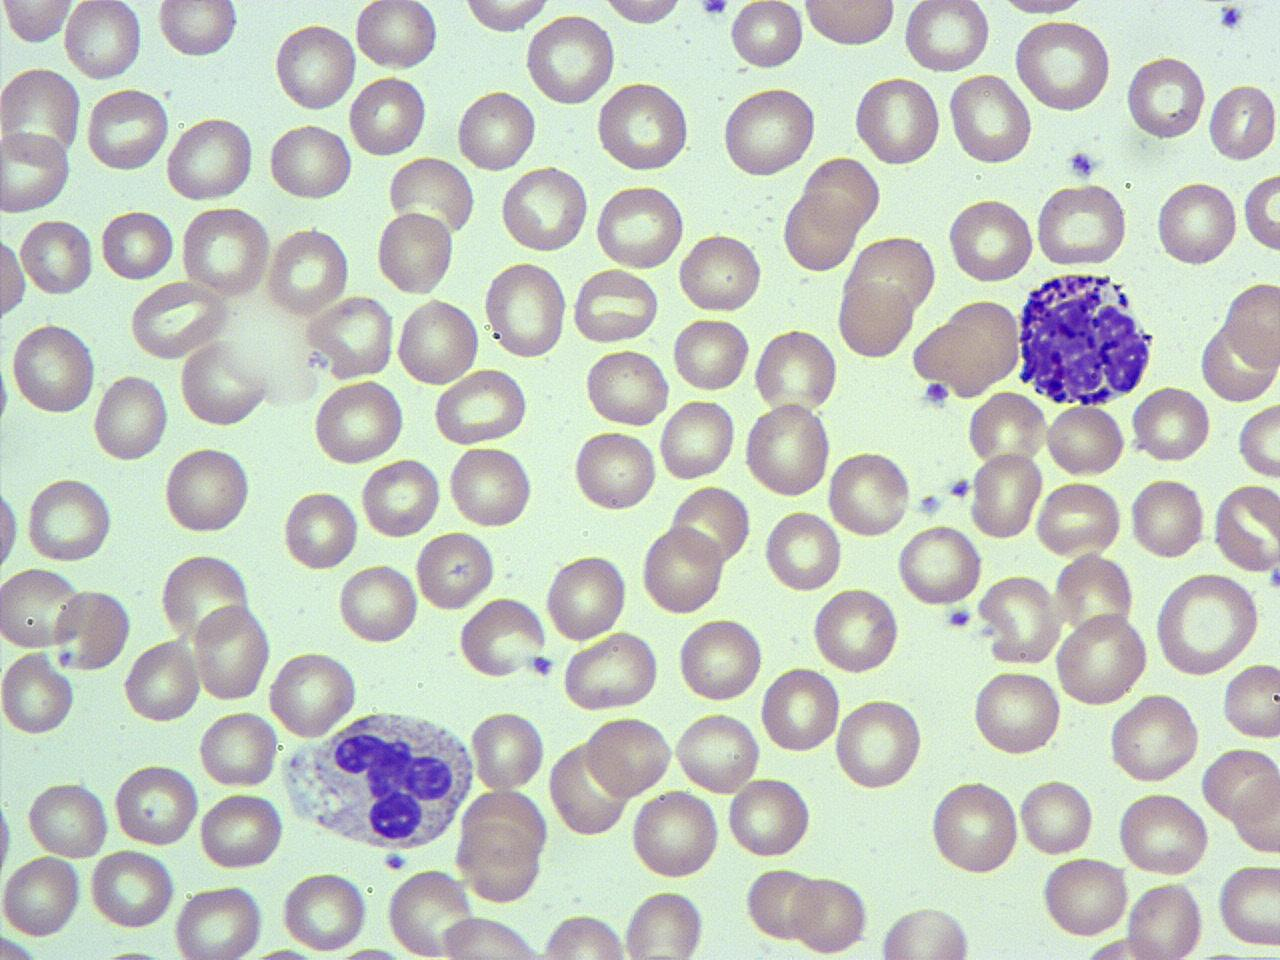Platelets: (966, 458, 1044, 541), (1065, 148, 1099, 181), (1217, 2, 1247, 33), (920, 380, 950, 407), (528, 653, 558, 678), (916, 491, 944, 516), (946, 475, 974, 500), (381, 848, 409, 872), (946, 606, 976, 628), (696, 1, 732, 18), (1265, 564, 1280, 592)
RBC: (1152, 568, 1262, 677), (1010, 18, 1114, 115), (718, 83, 818, 182), (839, 231, 934, 334), (1105, 690, 1203, 788), (930, 296, 1025, 398), (160, 548, 254, 650), (383, 148, 472, 256), (596, 78, 692, 175), (628, 785, 722, 885), (741, 399, 833, 502), (481, 257, 570, 362), (1054, 610, 1150, 708), (928, 776, 1020, 878), (177, 203, 274, 298), (0, 63, 85, 171), (524, 10, 618, 108), (851, 72, 943, 170), (9, 318, 98, 419), (161, 442, 254, 538), (833, 696, 926, 791), (1115, 790, 1213, 879), (497, 163, 592, 256), (266, 648, 362, 740), (1032, 181, 1130, 270), (946, 70, 1036, 167), (971, 666, 1064, 758), (810, 584, 902, 678), (310, 376, 406, 466), (976, 569, 1064, 666), (193, 601, 274, 706), (383, 866, 476, 958), (945, 195, 1038, 286), (178, 340, 272, 431), (394, 293, 482, 390), (751, 325, 842, 417), (594, 182, 686, 272), (128, 280, 232, 361), (675, 614, 765, 706), (1038, 853, 1132, 941), (638, 523, 726, 617), (272, 19, 358, 115), (561, 630, 661, 712), (163, 115, 255, 204), (826, 448, 914, 541), (266, 223, 351, 319), (111, 760, 202, 849), (544, 550, 630, 643), (758, 662, 842, 757), (582, 344, 672, 432), (571, 426, 659, 516), (444, 445, 536, 531), (583, 714, 675, 800), (308, 293, 396, 383), (672, 709, 762, 797), (725, 774, 814, 862), (432, 366, 531, 446), (23, 476, 115, 562), (84, 86, 171, 174), (454, 86, 539, 176), (1153, 178, 1239, 269), (456, 596, 547, 681), (1055, 548, 1137, 642), (91, 369, 170, 466), (896, 520, 984, 608), (455, 819, 545, 904), (266, 118, 354, 205), (676, 231, 766, 316), (87, 846, 177, 930), (346, 71, 429, 161), (374, 206, 455, 298), (25, 775, 111, 862), (1122, 54, 1206, 142), (281, 868, 370, 952), (172, 882, 267, 960), (670, 482, 754, 570), (0, 564, 83, 652), (762, 505, 844, 595), (197, 791, 286, 872), (1198, 315, 1278, 406), (358, 455, 442, 541), (122, 635, 202, 726), (965, 388, 1049, 472), (1, 854, 84, 940), (337, 561, 419, 646), (1042, 398, 1128, 481), (572, 265, 660, 346), (468, 706, 548, 794), (658, 396, 738, 485), (53, 584, 132, 674), (799, 153, 884, 236), (1130, 382, 1212, 467), (414, 527, 496, 613), (1035, 480, 1123, 560), (968, 451, 1044, 542), (900, 0, 992, 76), (0, 647, 76, 739), (62, 0, 144, 85), (835, 274, 914, 361), (1128, 474, 1206, 562), (789, 872, 870, 957), (282, 486, 360, 573), (1016, 775, 1098, 857), (196, 708, 279, 788), (18, 214, 96, 299), (670, 314, 752, 394), (780, 190, 858, 274), (1210, 481, 1280, 575), (353, 0, 442, 73), (1125, 879, 1205, 959), (0, 126, 74, 213), (622, 886, 706, 960), (98, 207, 177, 283), (1208, 78, 1278, 165), (745, 864, 819, 944), (1199, 746, 1277, 822), (874, 904, 978, 960), (728, 0, 806, 72), (1215, 862, 1279, 950), (1222, 278, 1278, 372), (156, 0, 240, 61), (434, 914, 546, 958), (1221, 659, 1279, 744), (800, 0, 896, 51), (1228, 767, 1280, 853), (536, 912, 632, 958), (0, 0, 74, 48), (1236, 400, 1280, 480), (1241, 167, 1279, 258), (459, 0, 554, 35), (0, 227, 28, 329), (1074, 934, 1180, 960), (599, 0, 690, 28), (991, 0, 1093, 20), (0, 479, 20, 577)
WBC: (276, 704, 476, 856), (1010, 266, 1160, 408)
